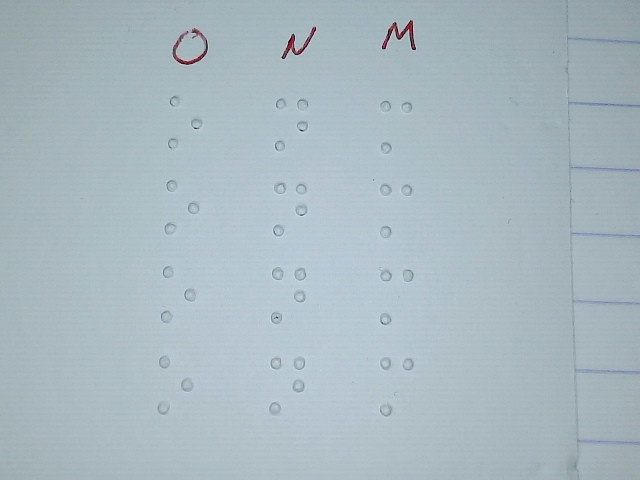M: (379, 267, 415, 326), (379, 356, 415, 415), (378, 99, 414, 154), (379, 182, 415, 237)
N: (268, 354, 306, 415), (270, 265, 307, 324), (274, 96, 310, 151), (273, 181, 309, 236)
O: (156, 354, 195, 414), (160, 265, 198, 323), (164, 178, 200, 235), (167, 94, 203, 149)
